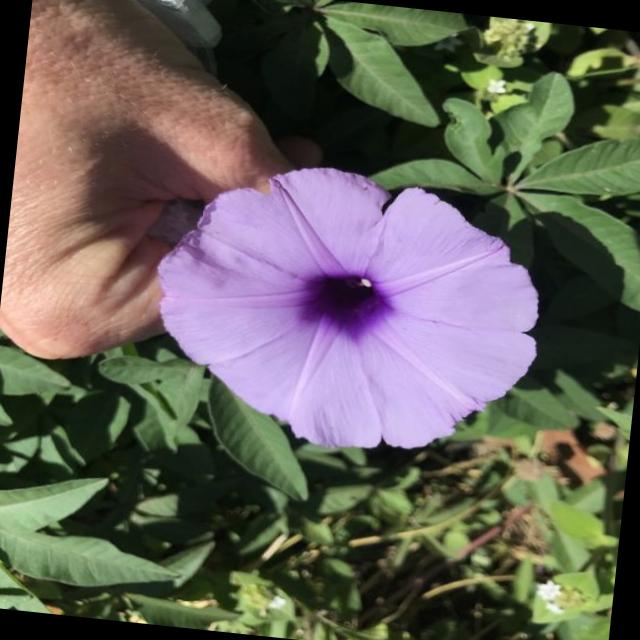ipomoea: (135, 147, 558, 470)
